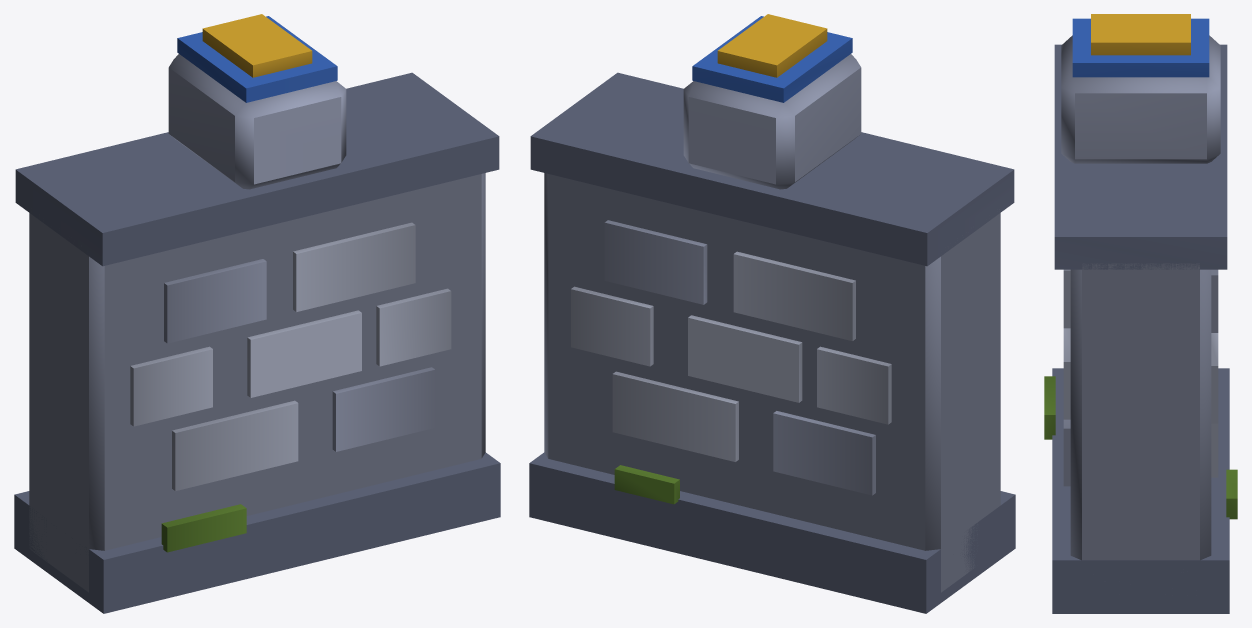
The model's file is wall_link_1.glb.
3 renders of one model, left to right at view 1: azimuth 30°, elevation 25°; view 2: azimuth 150°, elevation 25°; view 3: azimuth 270°, elevation 25°, orthographic.
Visible parts, largest first — view 1: body; view 2: body; view 3: body.
Part boxes in pixels (x1,y1,x2,y2): body: (14,14,500,613); body: (529,14,1015,613); body: (1044,14,1237,613).
Size of the model in its own units: 2 by 2.38 by 0.85.
